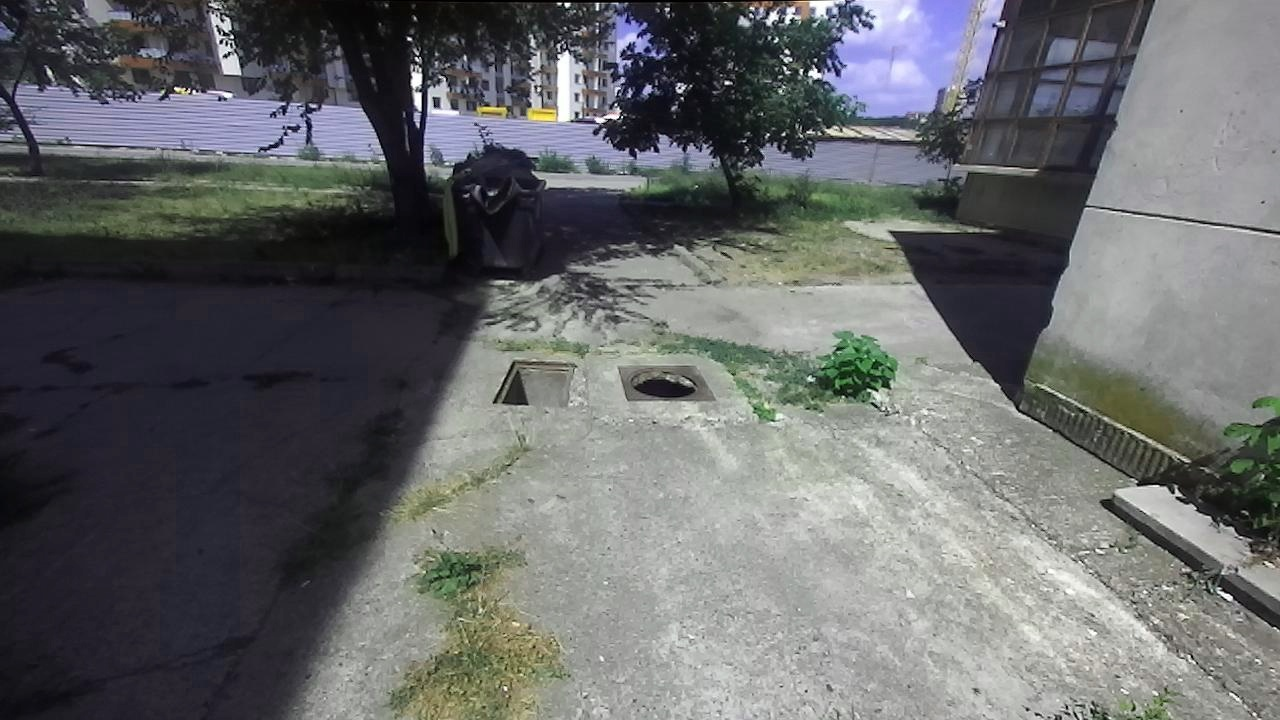drain: (491, 357, 579, 404), (628, 364, 700, 397)
